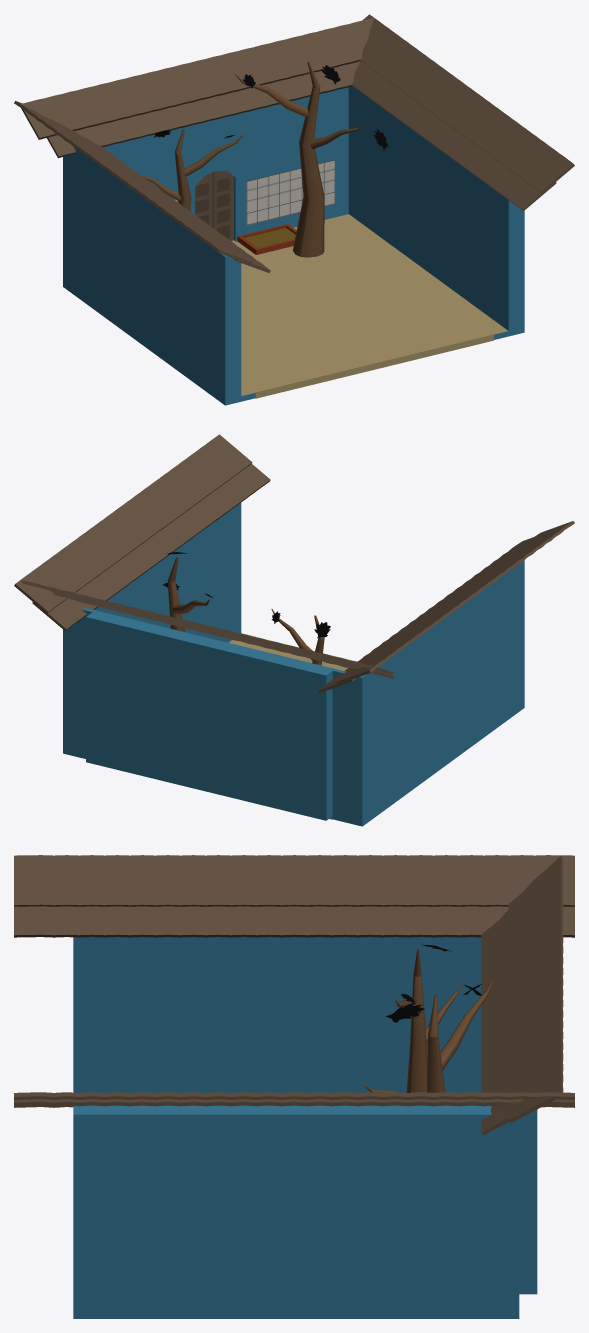
Rendered from Dojo-Background (2).fbx.
The picture shows the model from 3 angles, top to bottom: view 1: azimuth 30°, elevation 25°; view 2: azimuth 150°, elevation 25°; view 3: azimuth 270°, elevation 25°; orthographic projection. The views are drawn at different scales.
Parts seen in each view (by area): view 1: right_Wall, left_Wall, Floor, Back_Wall, Roof_back_Top, Roof_right_top, Roof_back_buttom, Roof_right_buttom, Tree1, Roof_right_top3, Tree2, plant_pot_right (+1 smaller); view 2: Back_Wall, left_Wall, right_Wall, Roof_right_top, Roof_right_buttom, Roof_right_top3, Roof_back_Top, Roof_back_buttom, Roof_right_buttom3, Tree1, Tree2, Floor; view 3: right_Wall, left_Wall, Roof_right_top3, Roof_right_buttom3, Roof_back_Top, Roof_back_buttom, Roof_right_top, Roof_right_buttom, Back_Wall, Tree1, Tree2.
Part boxes in pixels (x1=…): right_Wall: x1=334, y1=86, x2=524, y2=339; left_Wall: x1=63, y1=147, x2=255, y2=405; Floor: x1=231, y1=217, x2=493, y2=398; Back_Wall: x1=103, y1=91, x2=335, y2=241; Roof_back_Top: x1=20, y1=18, x2=373, y2=139; Roof_right_top: x1=360, y1=14, x2=574, y2=193; Roof_back_buttom: x1=47, y1=61, x2=359, y2=158; Roof_right_buttom: x1=352, y1=61, x2=556, y2=211; Tree1: x1=235, y1=62, x2=387, y2=257; Roof_right_top3: x1=14, y1=101, x2=252, y2=264; Tree2: x1=141, y1=129, x2=243, y2=211; plant_pot_right: x1=237, y1=224, x2=296, y2=254; Back_Wall: x1=86, y1=610, x2=333, y2=820; left_Wall: x1=332, y1=560, x2=524, y2=826; right_Wall: x1=63, y1=502, x2=255, y2=758; Roof_right_top: x1=14, y1=434, x2=252, y2=613; Roof_right_buttom: x1=32, y1=464, x2=270, y2=631; Roof_right_top3: x1=336, y1=521, x2=574, y2=684; Roof_back_Top: x1=20, y1=580, x2=393, y2=675; Roof_back_buttom: x1=52, y1=591, x2=393, y2=678; Roof_right_buttom3: x1=318, y1=537, x2=533, y2=693; Tree1: x1=162, y1=552, x2=213, y2=631; Tree2: x1=271, y1=609, x2=330, y2=665; Floor: x1=243, y1=637, x2=356, y2=819; right_Wall: x1=73, y1=1105, x2=519, y2=1318; left_Wall: x1=73, y1=937, x2=481, y2=1092; Roof_right_top3: x1=14, y1=855, x2=574, y2=906; Roof_right_buttom3: x1=14, y1=906, x2=574, y2=937; Roof_back_Top: x1=508, y1=855, x2=563, y2=1122; Roof_back_buttom: x1=481, y1=909, x2=509, y2=1134; Roof_right_top: x1=14, y1=1092, x2=574, y2=1099; Roof_right_buttom: x1=14, y1=1099, x2=574, y2=1107; Back_Wall: x1=519, y1=1110, x2=537, y2=1294; Tree1: x1=363, y1=979, x2=493, y2=1092; Tree2: x1=395, y1=944, x2=481, y2=1092.
Bounding box in the file's own units: 22.54 × 11.82 × 22.34.
